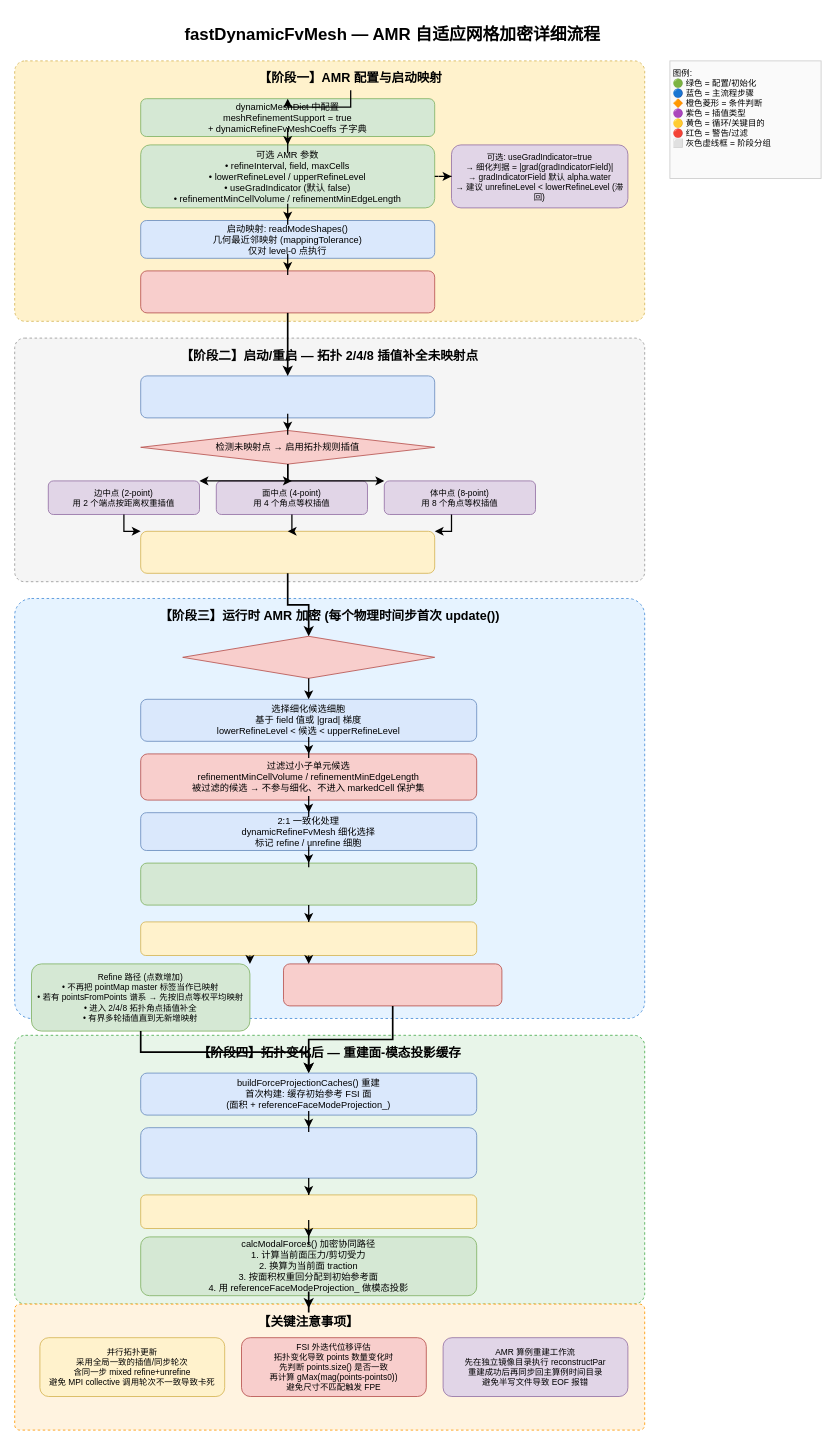
Some shapes in this 836 by 1445 pixel diagram are drawn without their labels. Each missing label, with the centre of its shape:
runtimeRefinementEnabled_? 需要执行网格加密?: (308,656)
Unrefine 路径 (点数减少) • 仅按 pointMap 同步幸存点 • 不执行新增点插值: (392,984)
updateMesh(mapPolyMesh) 触发 拓扑变化回调: (308,938)
并行共享点同步 先在并行共享点上同步已映射模态值 避免续跑时处理器边界位移不一致: (287,396)
建立 当前面 → 初始参考面 映射 基于 mapPolyMesh 拓扑谱系 (faceMap / facesFromFacesMap) 计算面积权重: (308,1152)
执行拓扑变化 refine: 分裂细胞 → 新增节点/面/细胞 unrefine: 合并细胞 → 移除节点/面/细胞: (308,883)
有界多轮插值循环 本轮有新增映射? → 继续下一轮 无新增 → 停止: (287,551)
目的: 保证 refine/unrefine 过程中 模态力计算基准始终是初始网格参考面: (308,1211)
若检测到已存在加密点 (pointLevel>0) → AMR 新增点必须通过拓扑 2/4/8 补全 → 不允许回退到几何最近邻: (287,291)
